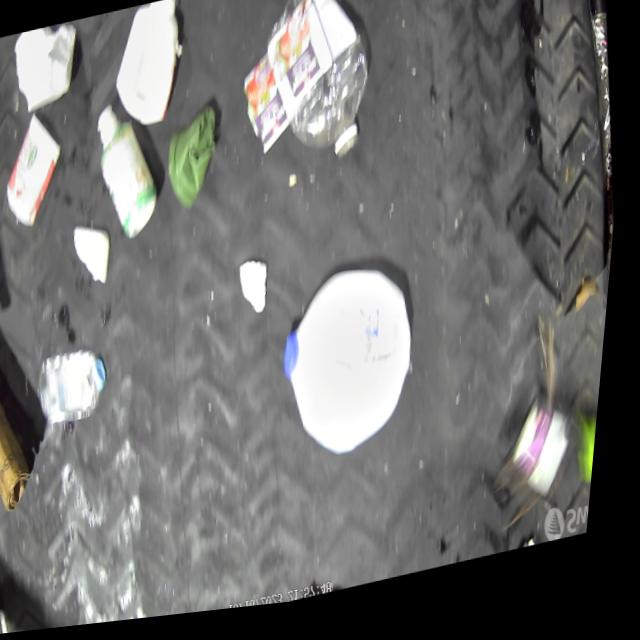milk_jug: (271, 263, 437, 476)
plastic_bottle: (250, 0, 388, 186), (36, 342, 120, 428)
